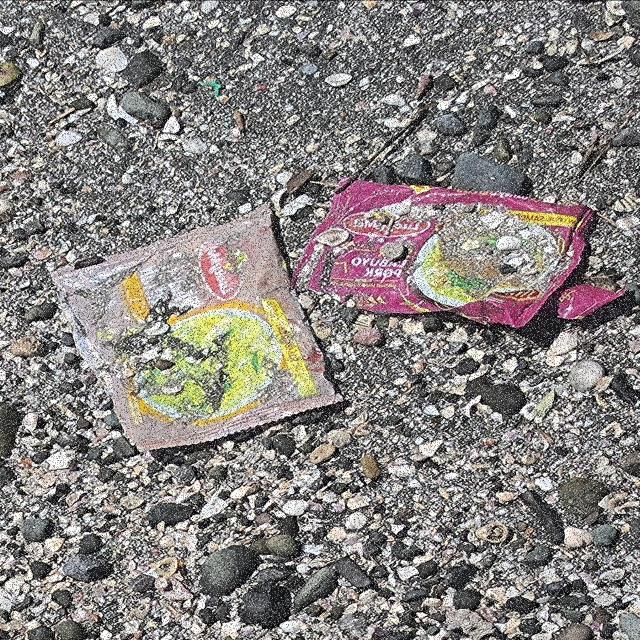plastic_waste: (48, 202, 348, 454), (291, 176, 632, 330)
